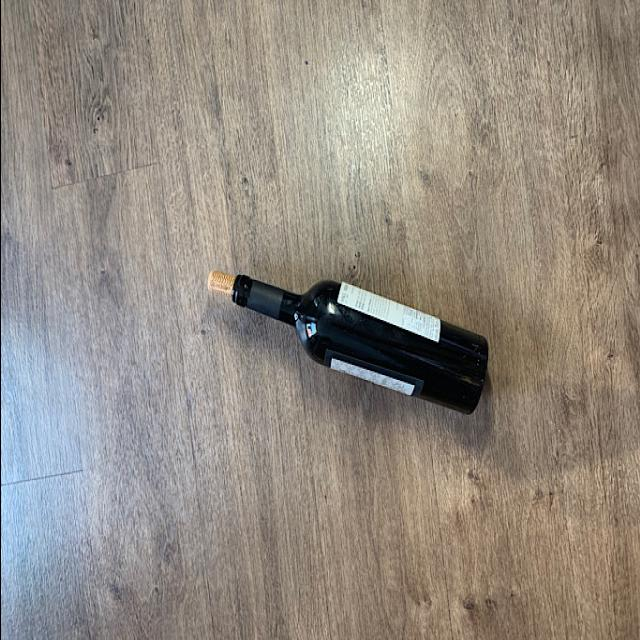litter: (228, 272, 486, 412)
